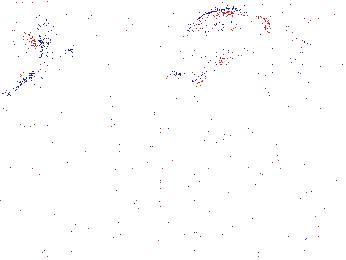moon jellyfish: (257, 6, 340, 68), (178, 10, 271, 64), (1, 7, 38, 98)
